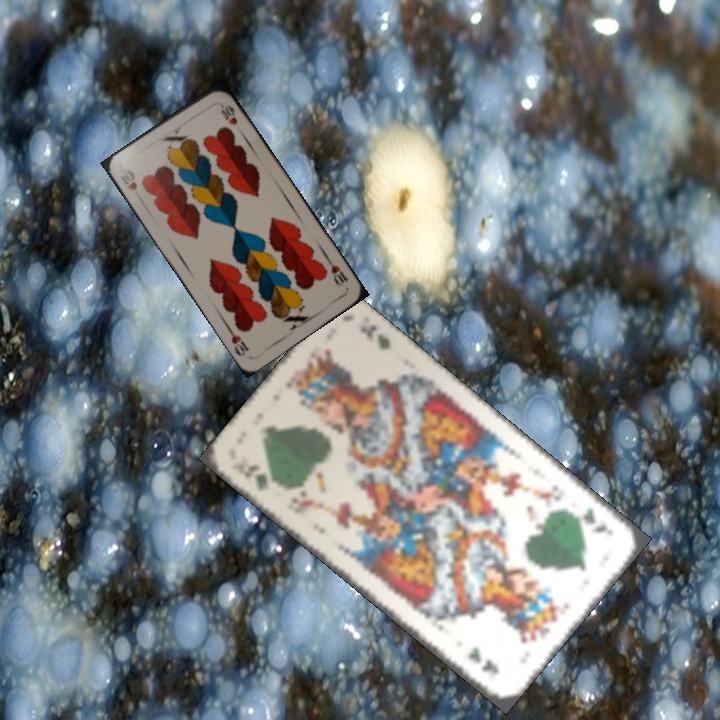GK: (565, 504, 615, 540), (250, 469, 283, 494)
H10: (323, 254, 351, 289), (116, 165, 140, 193)
